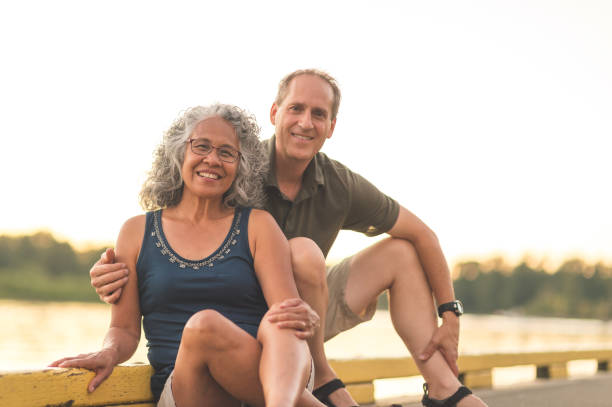face: (278, 82, 330, 158), (189, 125, 241, 196)
